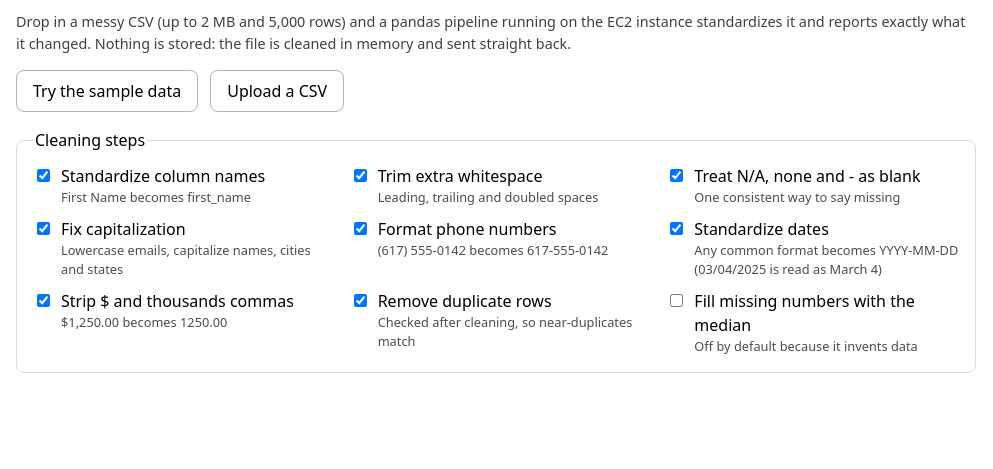
Scenario: DataCleaner › shows the server's error message when cleaning fails
Click the button "Try the sample data" at [107, 91], box [16,70,198,112]
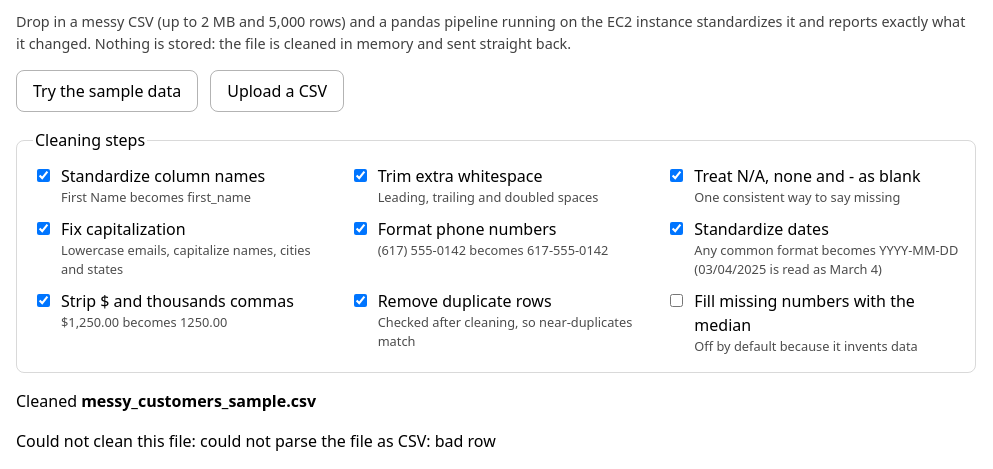
Expected: the message shows "could not parse the file as CSV: bad row", [200,430,496,452]
